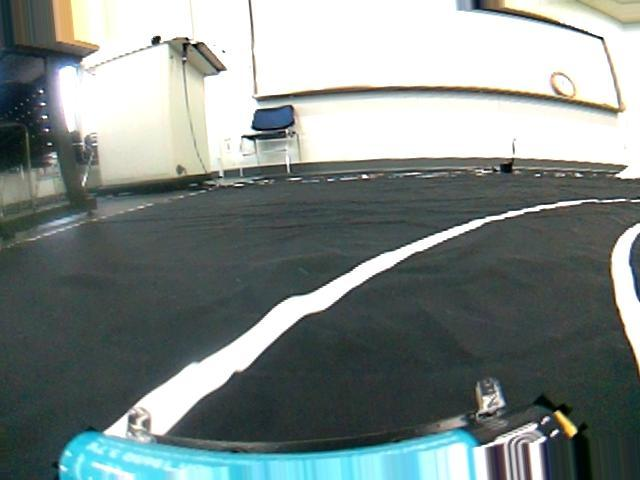right: (6, 194, 639, 473)
